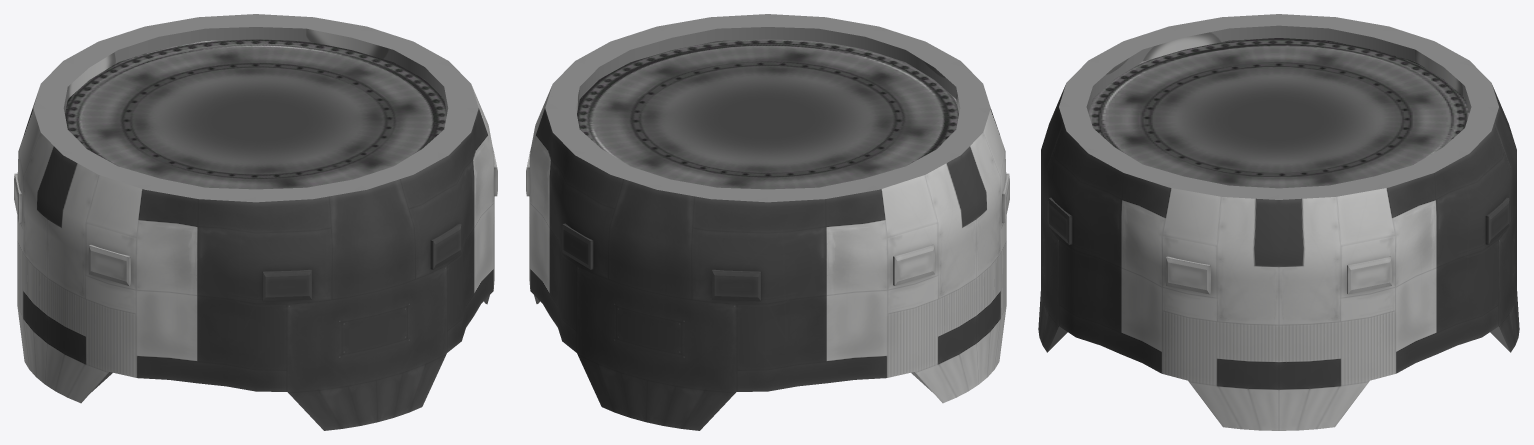
Rendered from Saturn_S1_EngineMount.dae.
The picture shows the model from 3 angles, left to right: view 1: azimuth 30°, elevation 25°; view 2: azimuth 150°, elevation 25°; view 3: azimuth 270°, elevation 25°; orthographic projection.
Parts seen in each view (by area): view 1: S1_EngineMount2, polySurface16; view 2: S1_EngineMount2, polySurface16; view 3: S1_EngineMount2, polySurface16.
Part boxes in pixels (left/top/right/bottom): S1_EngineMount2: left=14, top=14, right=497, bottom=430; polySurface16: left=65, top=39, right=446, bottom=189; S1_EngineMount2: left=526, top=14, right=1009, bottom=430; polySurface16: left=577, top=39, right=958, bottom=189; S1_EngineMount2: left=1038, top=14, right=1519, bottom=430; polySurface16: left=1088, top=38, right=1469, bottom=188.
Bounding box in the file's own units: 4.1 × 2.09 × 4.1.
